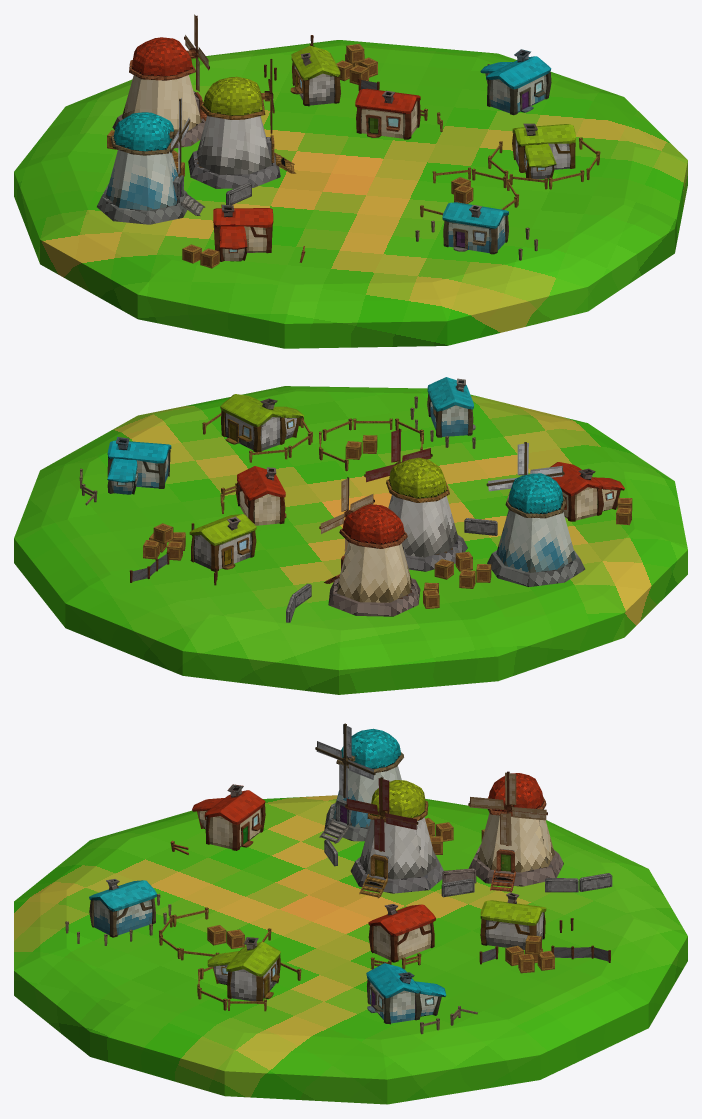
3 renders of one model, top to bottom at view 1: azimuth 30°, elevation 25°; view 2: azimuth 150°, elevation 25°; view 3: azimuth 270°, elevation 25°, orthographic.
Visible parts, largest first — view 1: Cylinder, Windmill_bottom.001, Windmill_bottom.002, Windmill_bottom, HousePLUS_small, HousePLUS_small.002, HousePLUS_small.001, House_small.002, House_small, House_small.001, Windmill_head, Windmill_head.001 (+2 smaller); view 2: Cylinder, Windmill_bottom.002, Windmill_bottom, Windmill_bottom.001, HousePLUS_small.002, HousePLUS_small, House_small.001, HousePLUS_small.001, House_small, House_small.002, Windmill_head, Windmill_head.001 (+5 smaller); view 3: Cylinder, Windmill_bottom.001, Windmill_bottom, HousePLUS_small, HousePLUS_small.001, HousePLUS_small.002, House_small.002, House_small, House_small.001, Windmill_bottom.002, Windmill_head.002, Windmill_wings (+4 smaller).
Part boxes in pixels (box(x1,y1,x2,y2)): Cylinder: box(14, 40, 687, 348); Windmill_bottom.001: box(188, 115, 280, 188); Windmill_bottom.002: box(97, 150, 187, 224); Windmill_bottom: box(112, 75, 205, 148); HousePLUS_small: box(480, 49, 551, 115); HousePLUS_small.002: box(512, 123, 575, 180); HousePLUS_small.001: box(213, 204, 273, 261); House_small.002: box(442, 202, 508, 254); House_small: box(355, 88, 420, 139); House_small.001: box(290, 45, 340, 106); Windmill_head: box(129, 37, 195, 80); Windmill_head.001: box(200, 76, 268, 119); Cylinder: box(14, 386, 687, 694); Windmill_bottom.002: box(487, 509, 585, 586); Windmill_bottom: box(328, 542, 420, 616); Windmill_bottom.001: box(388, 495, 467, 571); HousePLUS_small.002: box(220, 394, 303, 452); HousePLUS_small: box(107, 437, 171, 494); House_small.001: box(189, 514, 256, 571); HousePLUS_small.001: box(550, 462, 624, 521); House_small: box(236, 466, 286, 525); House_small.002: box(427, 377, 475, 437); Windmill_head: box(339, 504, 407, 548); Windmill_head.001: box(386, 457, 449, 502); Cylinder: box(14, 795, 687, 1104); Windmill_bottom.001: box(350, 817, 443, 893); Windmill_bottom: box(469, 813, 563, 886); HousePLUS_small: box(366, 963, 446, 1024); HousePLUS_small.001: box(192, 784, 265, 850); HousePLUS_small.002: box(207, 937, 280, 1001); House_small.002: box(89, 879, 156, 937); House_small: box(368, 904, 435, 962); House_small.001: box(480, 892, 546, 949); Windmill_bottom.002: box(324, 765, 401, 841); Windmill_head.002: box(336, 728, 403, 772); Windmill_wings: box(468, 771, 547, 845).
Bounding box in the file's own units: 1899 × 469 × 1885.
32 materials, 32 textured.
